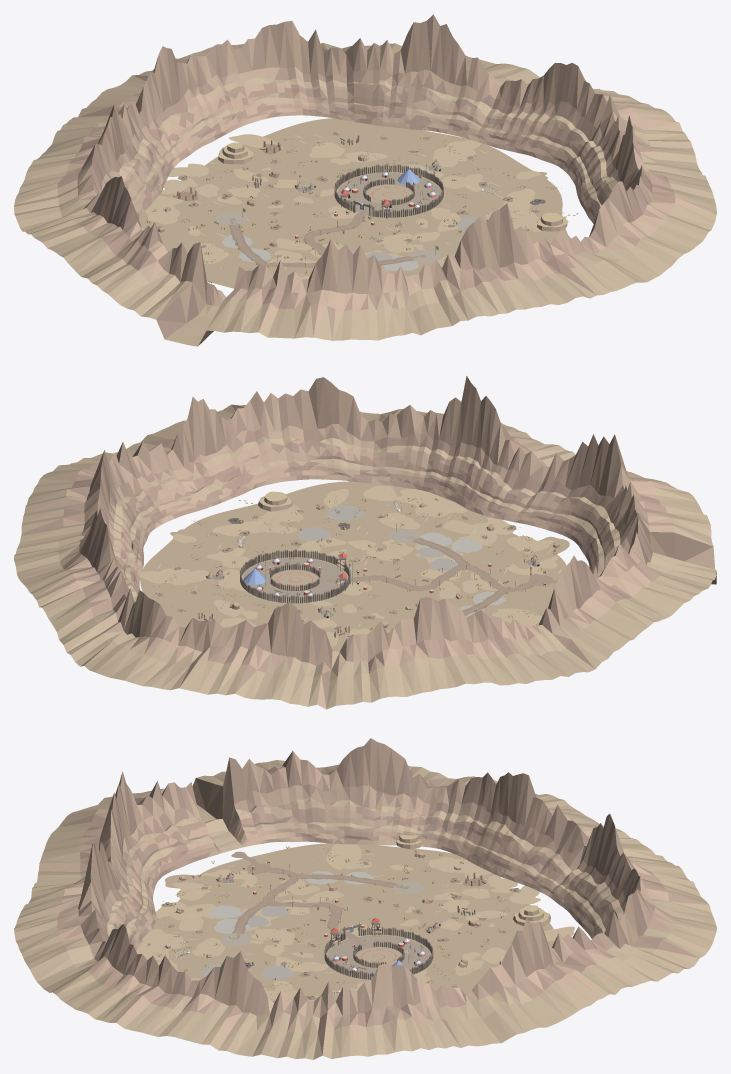
File: map_fort_war.glb
3 renders of one model, top to bottom at view 1: azimuth 30°, elevation 25°; view 2: azimuth 150°, elevation 25°; view 3: azimuth 270°, elevation 25°, orthographic.
Parts seen in each view (by area): view 1: Z_fort_war_penhascos, Z_fort_war_chao_chao, Z_fort_war_patio, Z_fort_war_det_chao_-3_0, Z_fort_war_det_chao_0_-2, Z_fort_war_det_chao_0_-3, Z_fort_war_det_chao_1_-2, Z_fort_war_det_chao_-1_1, Z_fort_war_det_chao_-2_0, Z_fort_war_det_chao_1_0, Z_fort_war_det_chao_-2_-1, Z_fort_war_det_chao_-3_1 (+7 smaller); view 2: Z_fort_war_penhascos, Z_fort_war_chao_chao, Z_fort_war_patio, Z_fort_war_det_chao_1_1, Z_fort_war_det_chao_1_-2, Z_fort_war_det_chao_1_2, Z_fort_war_det_chao_1_0, Z_fort_war_det_chao_0_-3, Z_fort_war_estrada_subida, Z_fort_war_det_chao_0_-2, Z_fort_war_det_chao_0_1, Z_fort_war_det_chao_2_0 (+7 smaller); view 3: Z_fort_war_penhascos, Z_fort_war_chao_chao, Z_fort_war_patio, Z_fort_war_det_chao_1_1, Z_fort_war_det_chao_-3_0, Z_fort_war_det_chao_1_2, Z_fort_war_det_chao_1_0, Z_fort_war_estrada_subida, Z_fort_war_det_chao_-2_2, Z_fort_war_det_chao_-1_1, Z_fort_war_det_chao_0_1, Z_fort_war_det_chao_0_2 (+11 smaller).
Boxes of the visible parts, bbox=[...] form: Z_fort_war_penhascos: bbox=[14, 14, 716, 346]; Z_fort_war_chao_chao: bbox=[138, 118, 567, 288]; Z_fort_war_patio: bbox=[337, 172, 440, 216]; Z_fort_war_det_chao_-3_0: bbox=[151, 167, 232, 207]; Z_fort_war_det_chao_0_-2: bbox=[403, 165, 484, 208]; Z_fort_war_det_chao_0_-3: bbox=[433, 140, 502, 175]; Z_fort_war_det_chao_1_-2: bbox=[446, 181, 545, 219]; Z_fort_war_det_chao_-1_1: bbox=[242, 238, 321, 268]; Z_fort_war_det_chao_-2_0: bbox=[217, 187, 286, 220]; Z_fort_war_det_chao_1_0: bbox=[384, 232, 459, 266]; Z_fort_war_det_chao_-2_-1: bbox=[244, 160, 327, 191]; Z_fort_war_det_chao_-3_1: bbox=[145, 202, 193, 224]; Z_fort_war_penhascos: bbox=[14, 376, 716, 709]; Z_fort_war_chao_chao: bbox=[140, 481, 566, 651]; Z_fort_war_patio: bbox=[242, 557, 347, 602]; Z_fort_war_det_chao_1_1: bbox=[411, 518, 503, 565]; Z_fort_war_det_chao_1_-2: bbox=[212, 518, 296, 556]; Z_fort_war_det_chao_1_2: bbox=[485, 517, 569, 561]; Z_fort_war_det_chao_1_0: bbox=[348, 512, 427, 556]; Z_fort_war_det_chao_0_-3: bbox=[140, 549, 208, 585]; Z_fort_war_estrada_subida: bbox=[326, 565, 542, 591]; Z_fort_war_det_chao_0_-2: bbox=[206, 543, 301, 583]; Z_fort_war_det_chao_0_1: bbox=[351, 551, 534, 590]; Z_fort_war_det_chao_2_0: bbox=[353, 485, 446, 520]; Z_fort_war_penhascos: bbox=[14, 738, 716, 1059]; Z_fort_war_chao_chao: bbox=[138, 843, 554, 1001]; Z_fort_war_patio: bbox=[327, 935, 430, 978]; Z_fort_war_det_chao_1_1: bbox=[161, 901, 267, 939]; Z_fort_war_det_chao_-3_0: bbox=[441, 865, 539, 900]; Z_fort_war_det_chao_1_2: bbox=[155, 874, 228, 918]; Z_fort_war_det_chao_1_0: bbox=[193, 926, 284, 959]; Z_fort_war_estrada_subida: bbox=[257, 867, 366, 945]; Z_fort_war_det_chao_-2_2: bbox=[323, 844, 374, 869]; Z_fort_war_det_chao_-1_1: bbox=[275, 876, 343, 905]; Z_fort_war_det_chao_0_1: bbox=[242, 868, 357, 938]; Z_fort_war_det_chao_0_2: bbox=[188, 865, 263, 897].
Size of the model in its own units: 364 by 59.96 by 367.
